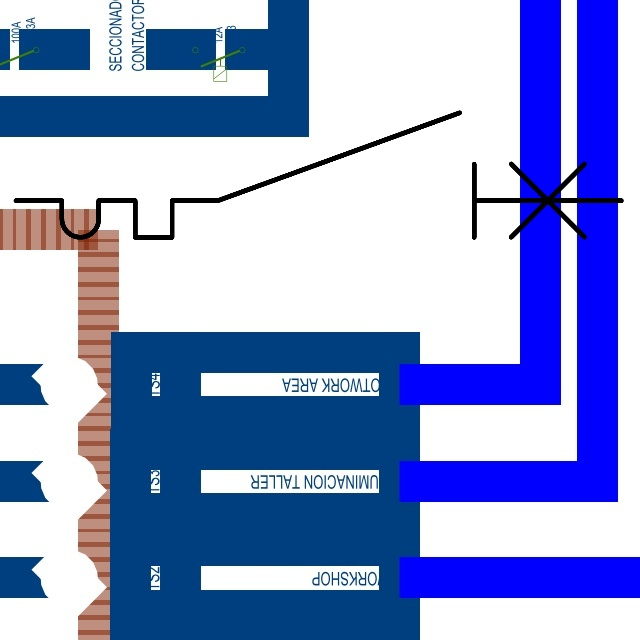interruptor_termomagnetico: (0, 97, 637, 253)
